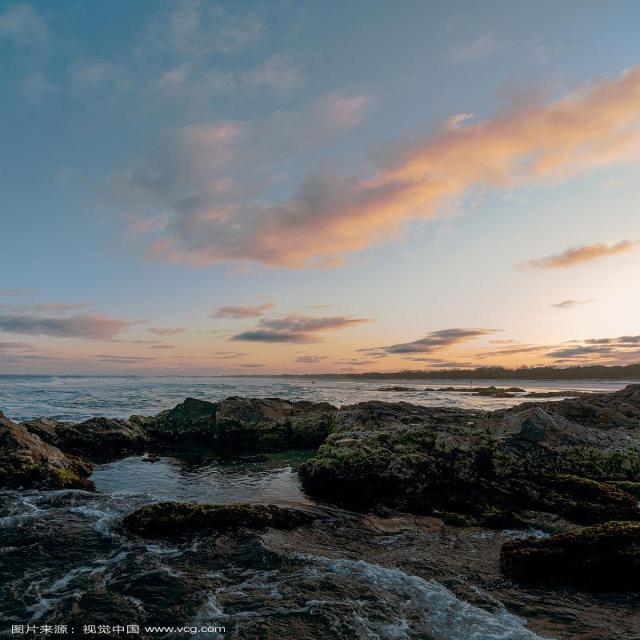reef: (120, 403, 592, 519)
